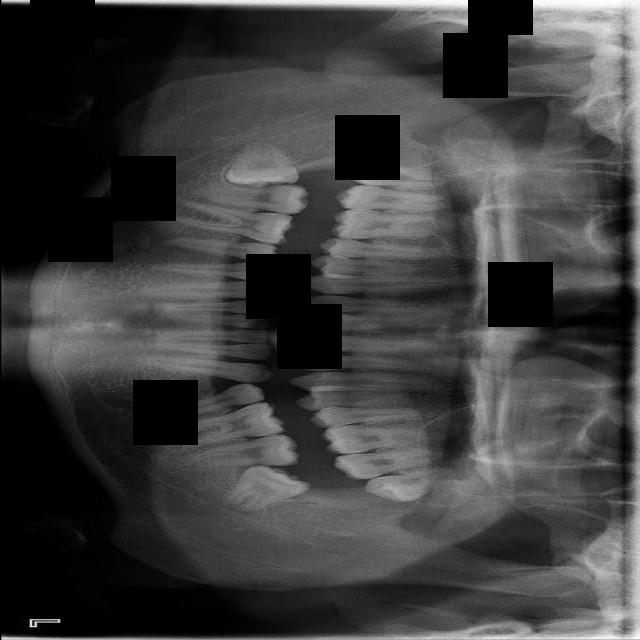3M ESPE Implant: (345, 154, 446, 199)
73: (14, 618, 22, 629)
BioHorizons Implant: (333, 445, 434, 483)
BioLife Implant: (362, 465, 450, 510)
Biomet 3i Implant: (214, 449, 312, 521)
Blue Sky Bio Implant: (190, 434, 298, 469)
Caries: (334, 184, 441, 212)
Implant: (200, 173, 310, 216)
Keystone Dental Implant: (222, 138, 299, 192)
